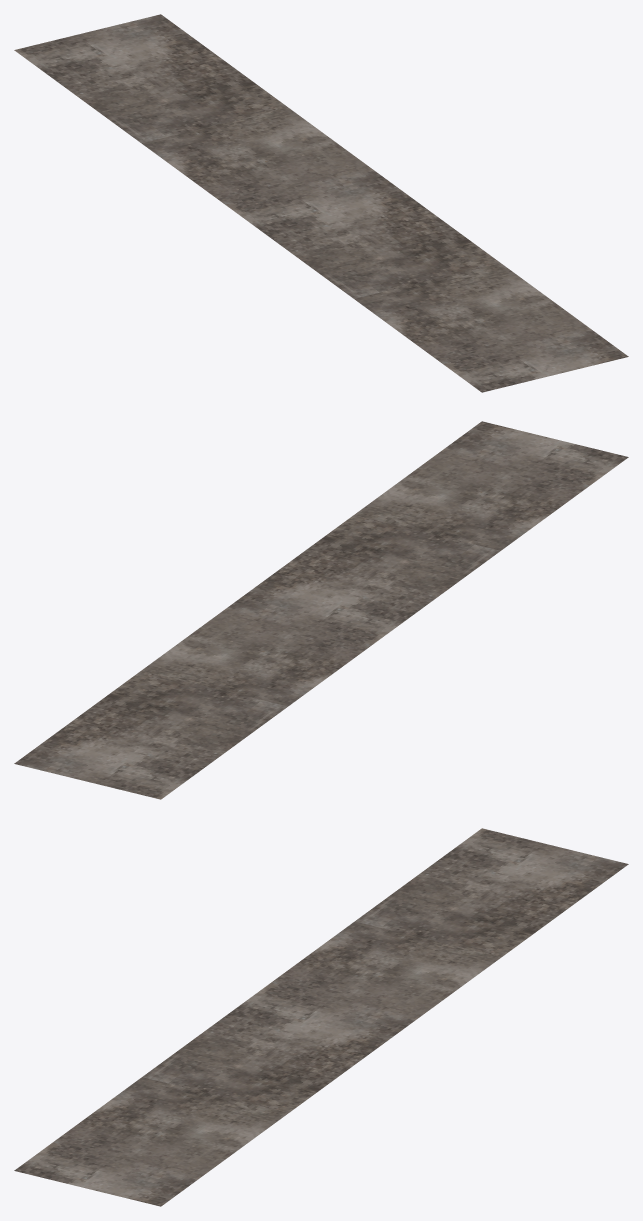
Rendered from sewer room f1 walkway roof.fbx.
3 views of the same model, one above another, from view 1: azimuth 30°, elevation 25°; view 2: azimuth 150°, elevation 25°; view 3: azimuth 330°, elevation 25° (orthographic).
Parts seen in each view (by area): view 1: pPlane4; view 2: pPlane4; view 3: pPlane4.
Part boxes in pixels (x1,y1,x2,y2): pPlane4: (14, 14, 628, 392); pPlane4: (14, 421, 628, 799); pPlane4: (14, 828, 628, 1206).
Size of the model in its own units: 450 by 0 by 2481.
